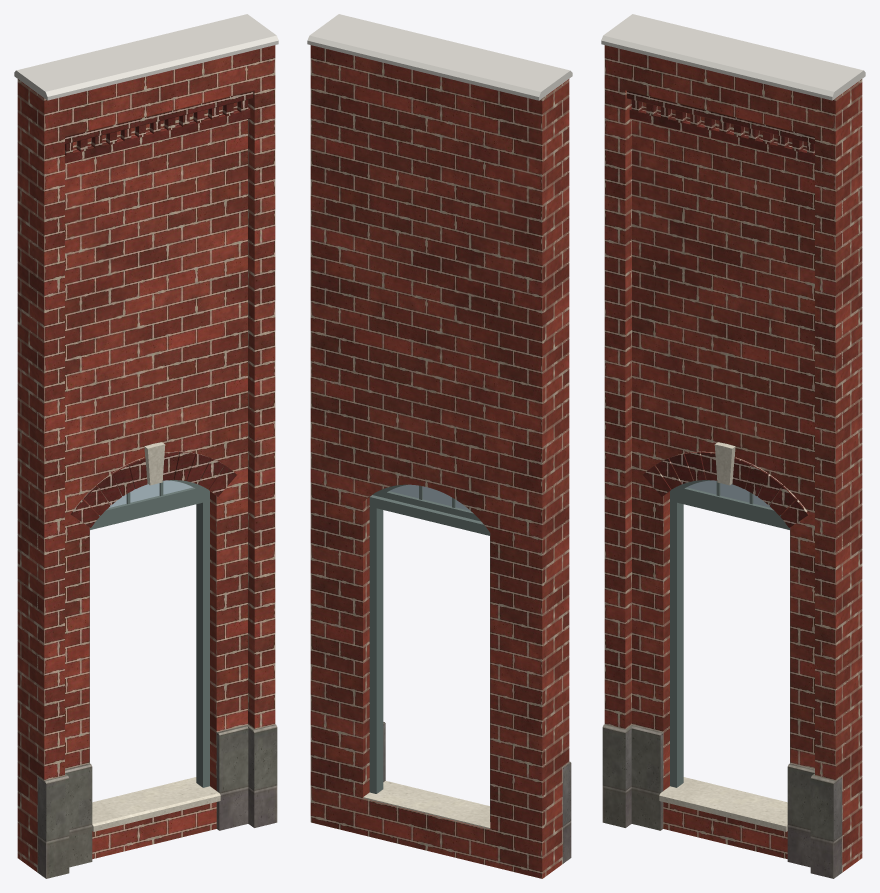
File: h_back_door.glb
3 renders of one model, left to right at view 1: azimuth 30°, elevation 25°; view 2: azimuth 150°, elevation 25°; view 3: azimuth 330°, elevation 25°, orthographic.
Parts seen in each view (by area): view 1: h_back_door_brick, h_back_door_plinth, h_back_door_coping, h_back_door_brick2, h_back_door_wframe, h_back_door_trim, h_back_door_glass; view 2: h_back_door_brick, h_back_door_coping, h_back_door_wframe, h_back_door_trim, h_back_door_plinth, h_back_door_glass; view 3: h_back_door_brick, h_back_door_plinth, h_back_door_coping, h_back_door_brick2, h_back_door_wframe, h_back_door_trim, h_back_door_glass.
Part boxes in pixels (x1=…): h_back_door_brick: x1=17, y1=45, x2=275, y2=872; h_back_door_plinth: x1=37, y1=724, x2=277, y2=878; h_back_door_coping: x1=14, y1=14, x2=278, y2=100; h_back_door_brick2: x1=65, y1=91, x2=252, y2=527; h_back_door_wframe: x1=89, y1=480, x2=209, y2=787; h_back_door_trim: x1=92, y1=442, x2=220, y2=831; h_back_door_glass: x1=109, y1=480, x2=192, y2=507; h_back_door_brick: x1=310, y1=45, x2=569, y2=878; h_back_door_coping: x1=307, y1=14, x2=572, y2=100; h_back_door_wframe: x1=369, y1=484, x2=490, y2=821; h_back_door_trim: x1=363, y1=781, x2=490, y2=829; h_back_door_plinth: x1=383, y1=722, x2=571, y2=863; h_back_door_glass: x1=389, y1=484, x2=470, y2=510; h_back_door_brick: x1=604, y1=45, x2=862, y2=872; h_back_door_plinth: x1=602, y1=724, x2=842, y2=878; h_back_door_coping: x1=601, y1=14, x2=865, y2=100; h_back_door_brick2: x1=627, y1=91, x2=814, y2=527; h_back_door_wframe: x1=670, y1=480, x2=790, y2=787; h_back_door_trim: x1=659, y1=442, x2=787, y2=831; h_back_door_glass: x1=687, y1=480, x2=770, y2=507.
Size of the model in its own units: 2 by 6.5 by 0.5.
Materials: 7 (4 with a texture image).
